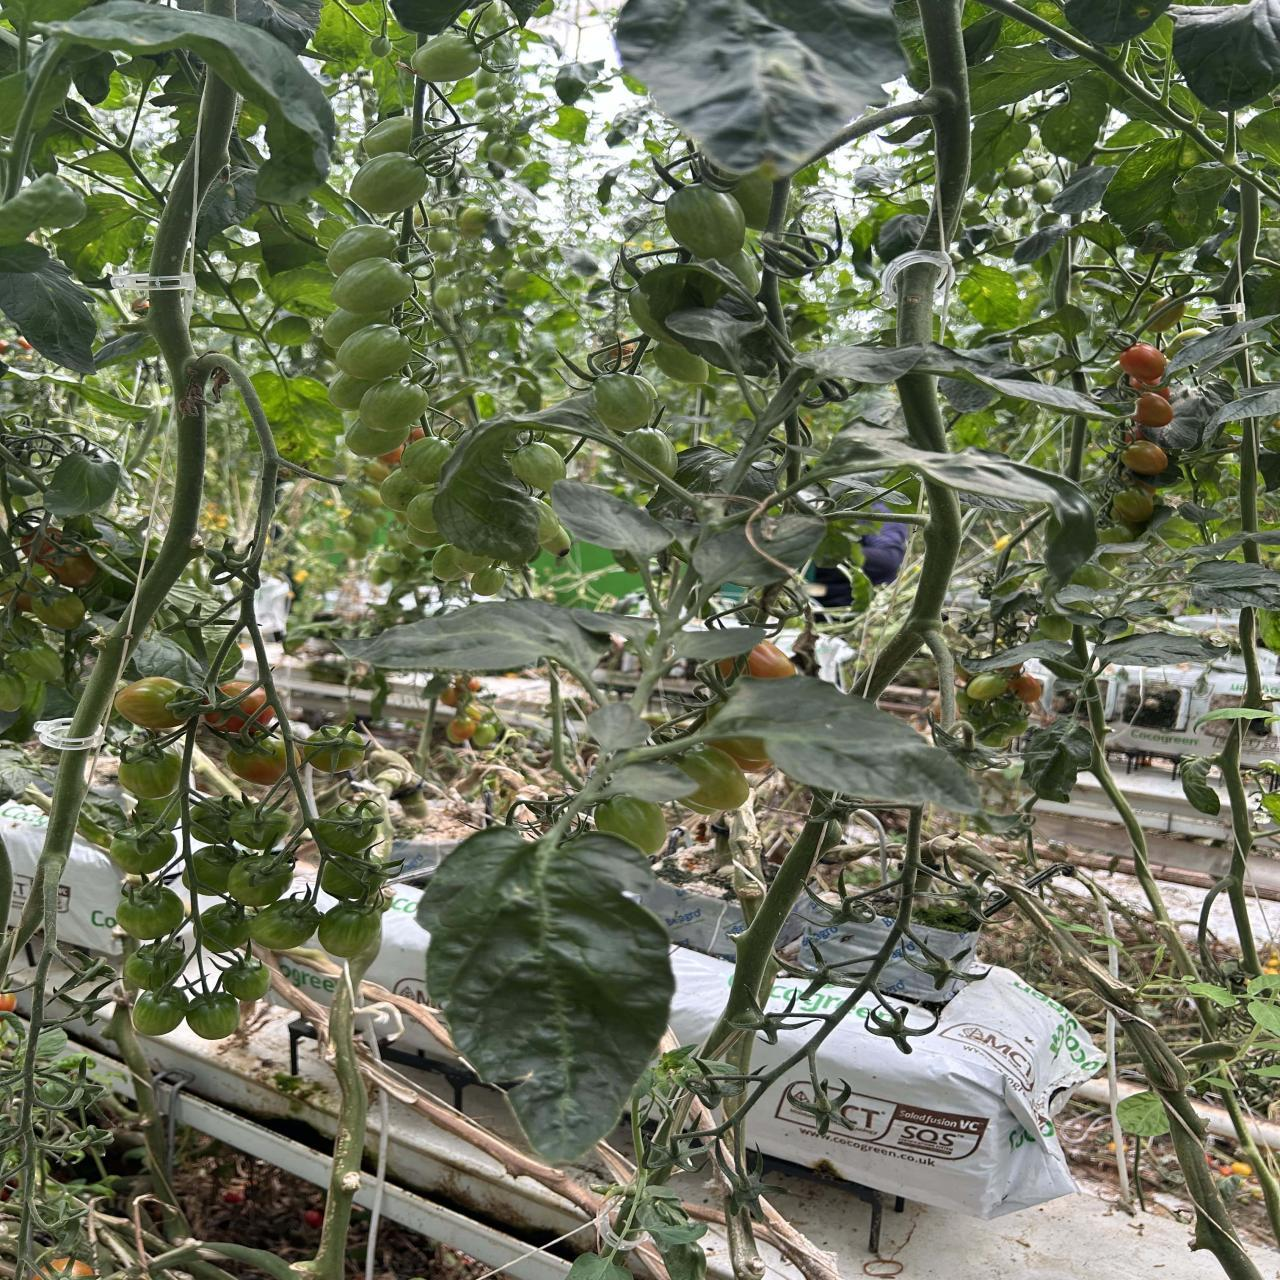Rugose leaf: (417, 830, 674, 1160)
Rugose tomato: (674, 747, 749, 813), (114, 676, 185, 729), (226, 742, 286, 785), (1121, 343, 1167, 386), (747, 639, 797, 678), (1121, 440, 1169, 476), (1110, 488, 1153, 526), (1132, 392, 1173, 428), (1008, 666, 1043, 704), (624, 461, 640, 475)
